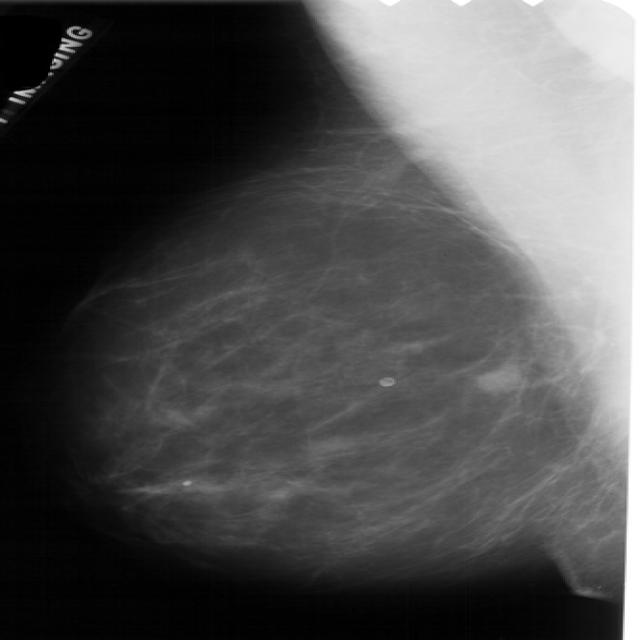tumour: (472, 362, 524, 391)
